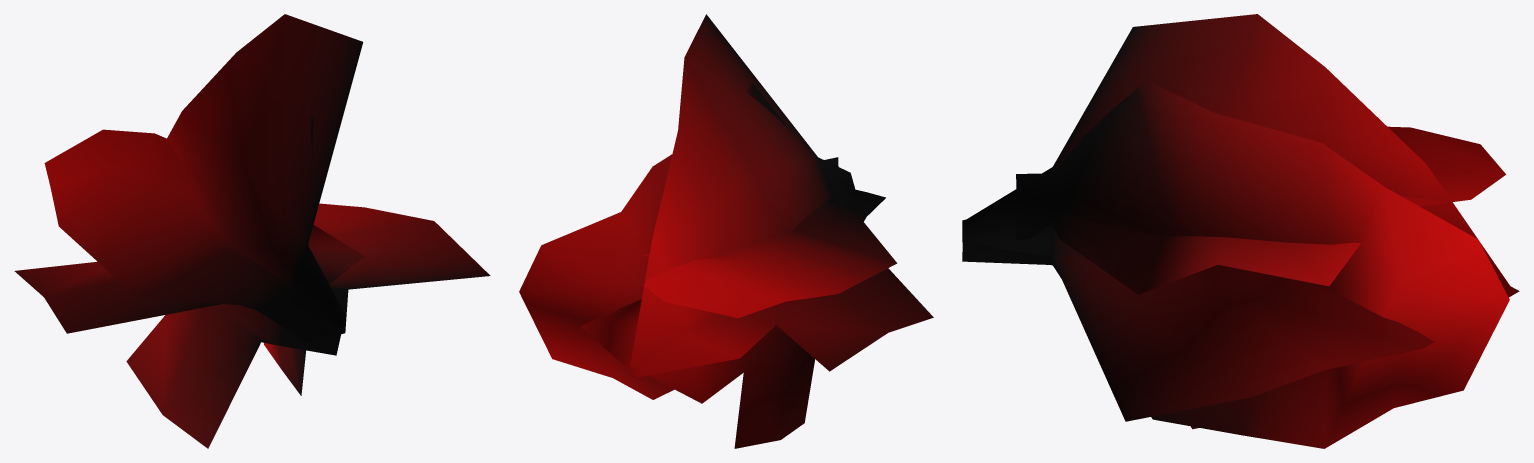
The model's file is msh_branch_watercolor_scan.fbx.
The picture shows the model from 3 angles, left to right: view 1: azimuth 30°, elevation 25°; view 2: azimuth 150°, elevation 25°; view 3: azimuth 270°, elevation 25°; orthographic projection. The views are drawn at different scales.
Parts seen in each view (by area): view 1: msh_branch_watercolor_scan; view 2: msh_branch_watercolor_scan; view 3: msh_branch_watercolor_scan.
Part boxes in pixels (x1=…): msh_branch_watercolor_scan: x1=14, y1=14, x2=490, y2=448; msh_branch_watercolor_scan: x1=519, y1=14, x2=933, y2=448; msh_branch_watercolor_scan: x1=962, y1=14, x2=1519, y2=448.
Bounding box in the file's own units: 80.36 × 80.19 × 76.24.
